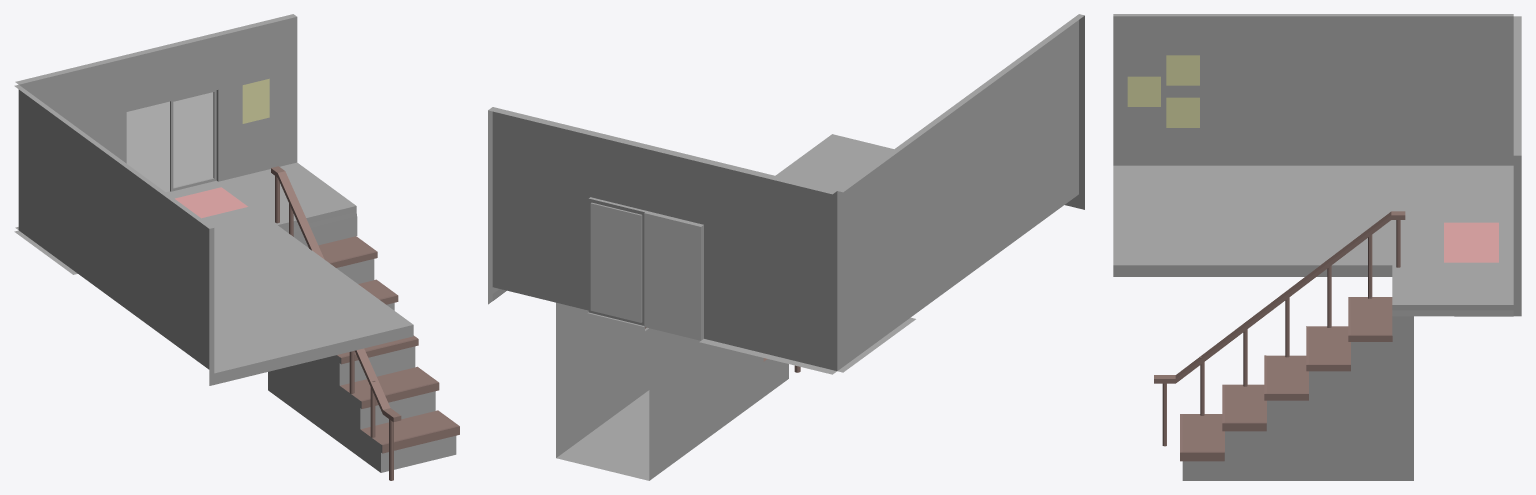
Rendered from FirstFloor.fbx.
3 views of the same model, side by side, from view 1: azimuth 30°, elevation 25°; view 2: azimuth 150°, elevation 25°; view 3: azimuth 270°, elevation 25° (orthographic). The views are drawn at different scales.
Parts seen in each view (by area): view 1: Cube.060; view 2: Cube.060; view 3: Cube.060.
Boxes of the visible parts, x1=… form: Cube.060: x1=14, y1=14, x2=459, y2=480; Cube.060: x1=488, y1=14, x2=1084, y2=480; Cube.060: x1=1113, y1=14, x2=1521, y2=480.
Bounding box in the file's own units: 993 × 1207 × 1069.
